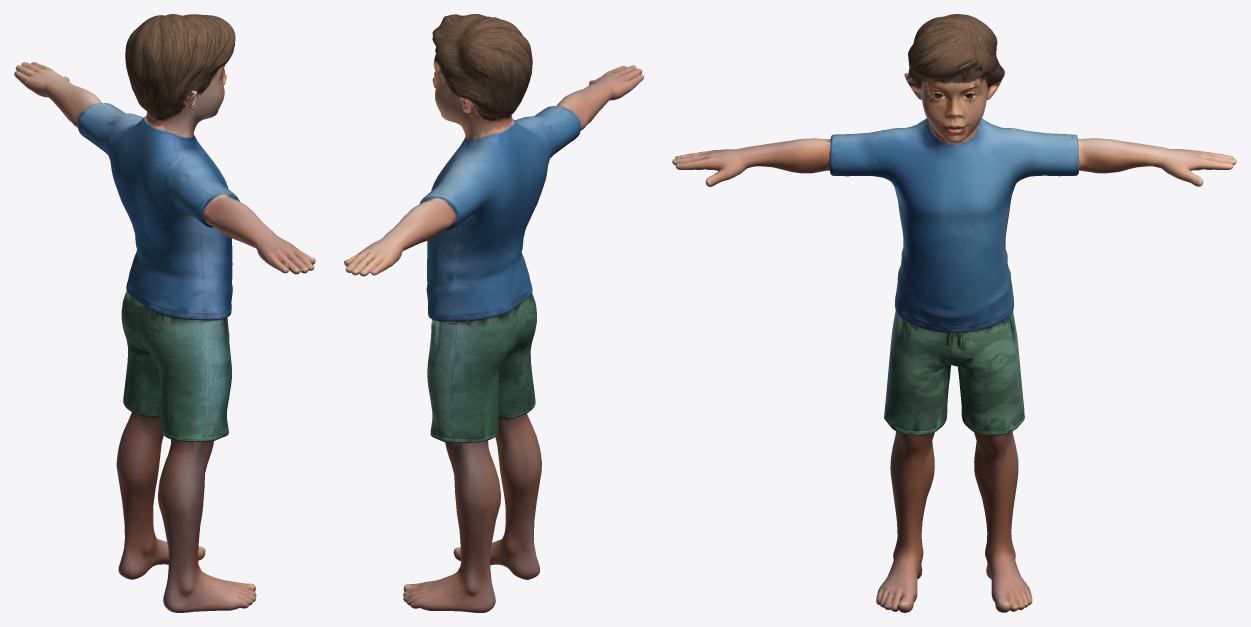
The model's file is theo-5.glb.
3 renders of one model, left to right at view 1: azimuth 30°, elevation 25°; view 2: azimuth 150°, elevation 25°; view 3: azimuth 270°, elevation 25°, orthographic.
Parts seen in each view (by area): view 1: theo4; view 2: theo4; view 3: theo4.
Boxes of the visible parts, left/top/right/bottom form: theo4: left=14, top=14, right=315, bottom=612; theo4: left=344, top=14, right=643, bottom=612; theo4: left=672, top=14, right=1236, bottom=612.
Size of the model in its own units: 0.1772 by 0.9793 by 0.8774.
Materials: 1 (1 with a texture image).
